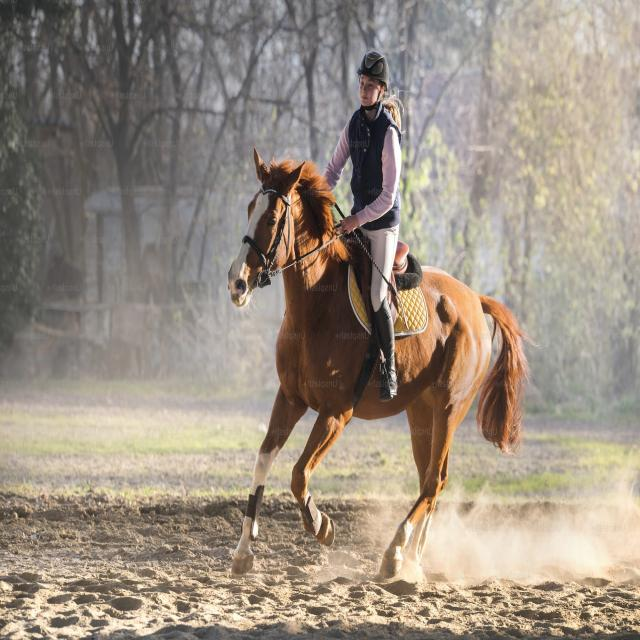adult: (322, 48, 402, 394)
